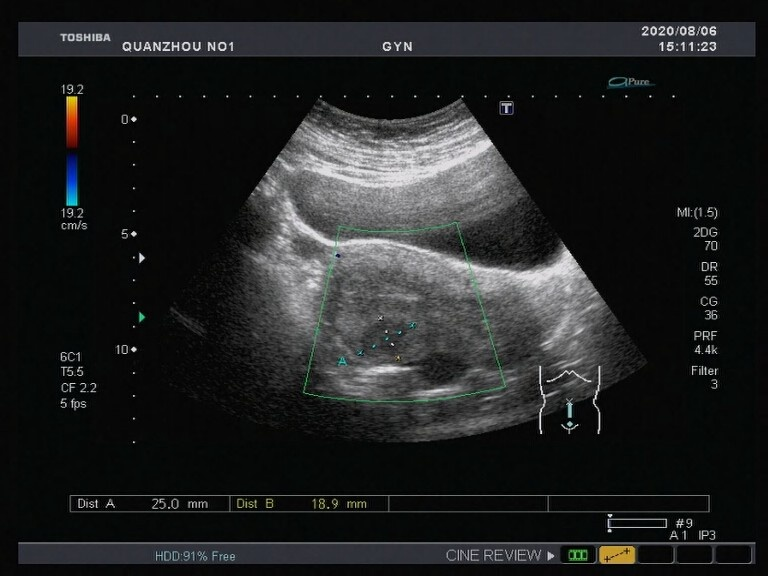肌瘤: (361, 324, 407, 351)
